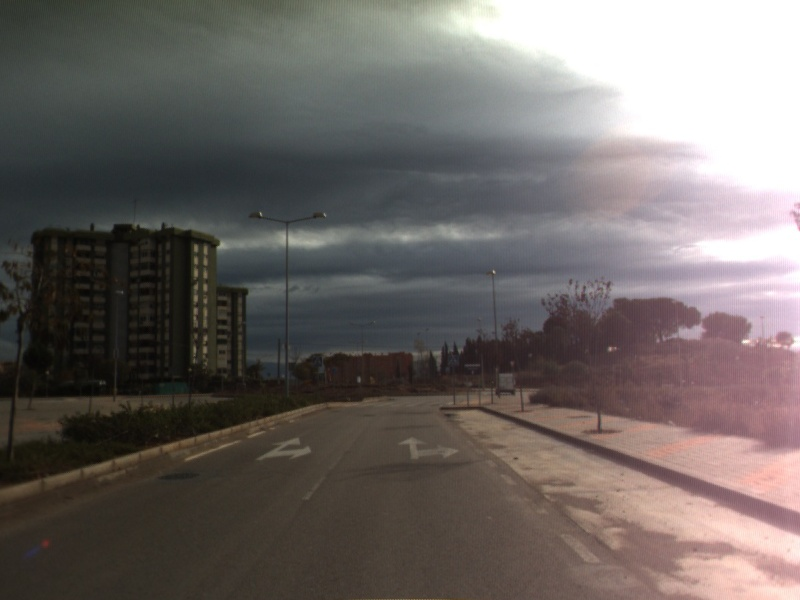STRAIGHT_RIGHT: (396, 435, 461, 461), (253, 435, 314, 462)
